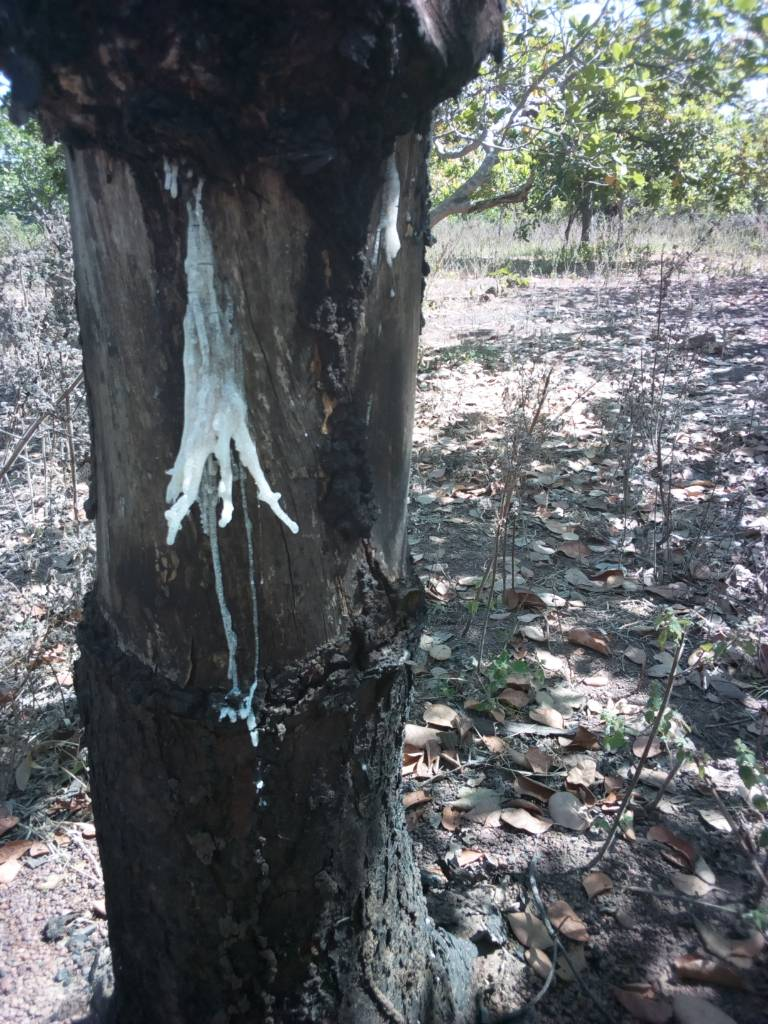Termites: (108, 803, 322, 1024), (329, 635, 415, 1017)
